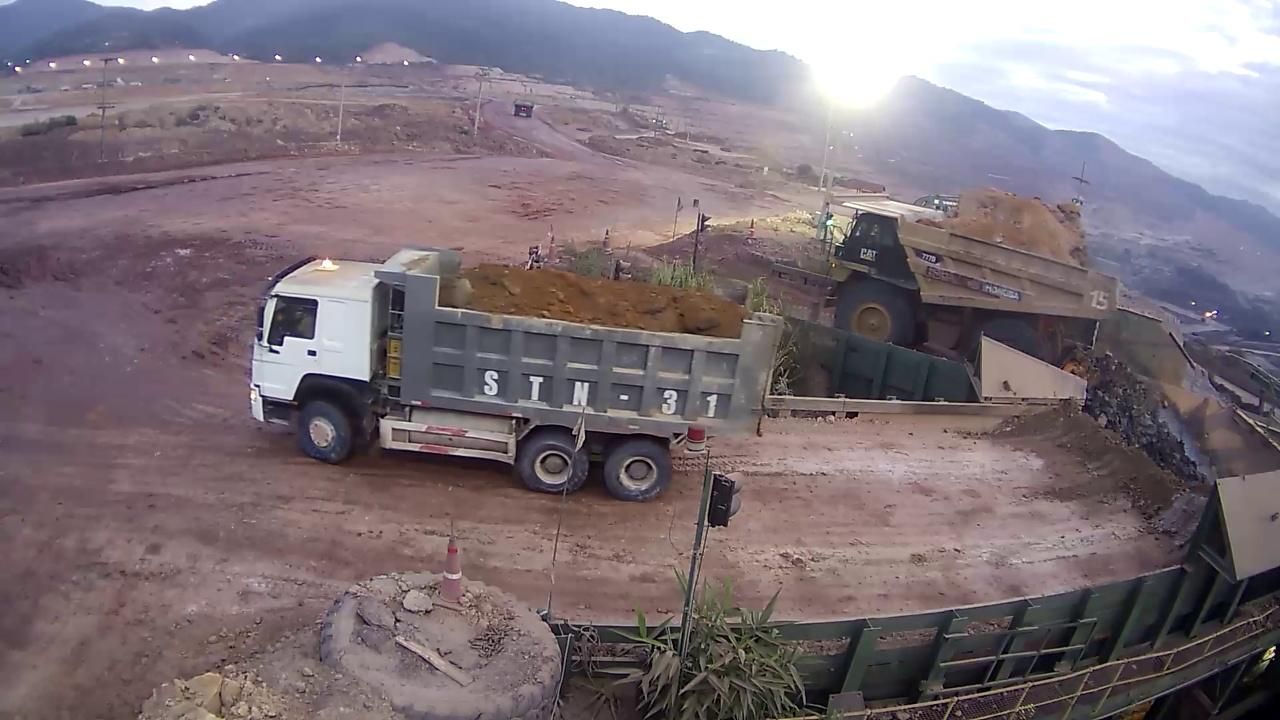full_load: (934, 180, 1100, 259)
mining_truck: (818, 171, 1130, 389)
tail_number: (1087, 289, 1113, 312)
